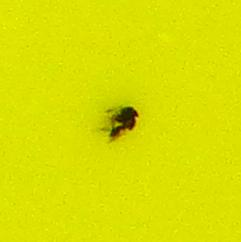Hymenoptera: (100, 100, 141, 142)
